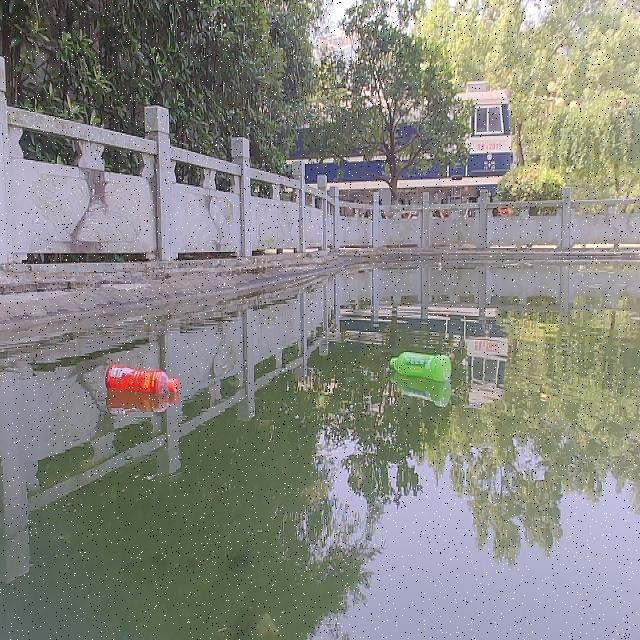bottle: (105, 360, 179, 395), (389, 349, 453, 382)
